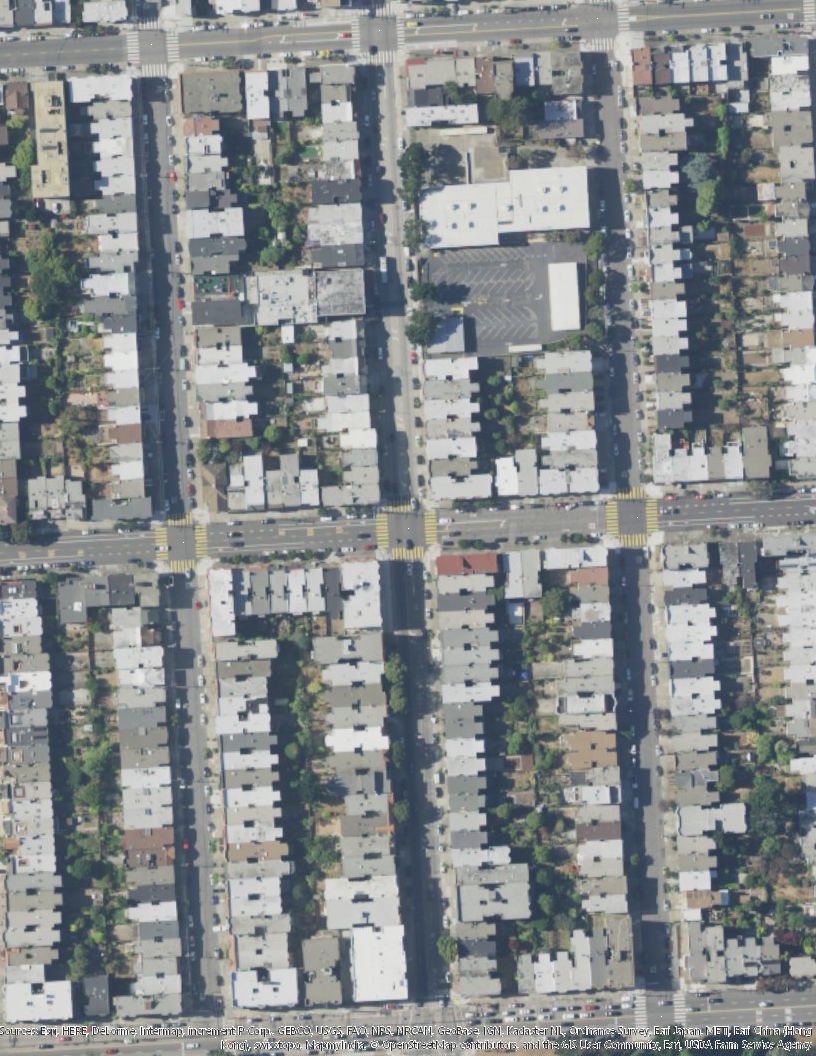zebracross: (612, 484, 647, 501), (125, 27, 141, 63), (360, 48, 396, 64), (358, 1, 395, 15), (424, 507, 437, 546), (153, 526, 168, 559), (193, 522, 207, 557), (375, 512, 389, 547), (605, 500, 619, 535), (391, 546, 425, 560), (645, 497, 658, 533), (634, 995, 647, 1031), (387, 497, 418, 512), (140, 61, 168, 77), (170, 559, 196, 576), (394, 10, 407, 44), (167, 26, 179, 62), (588, 37, 618, 51), (349, 11, 360, 48), (167, 512, 193, 527), (617, 3, 631, 30), (139, 15, 164, 30), (620, 533, 648, 546), (671, 994, 680, 1022)
